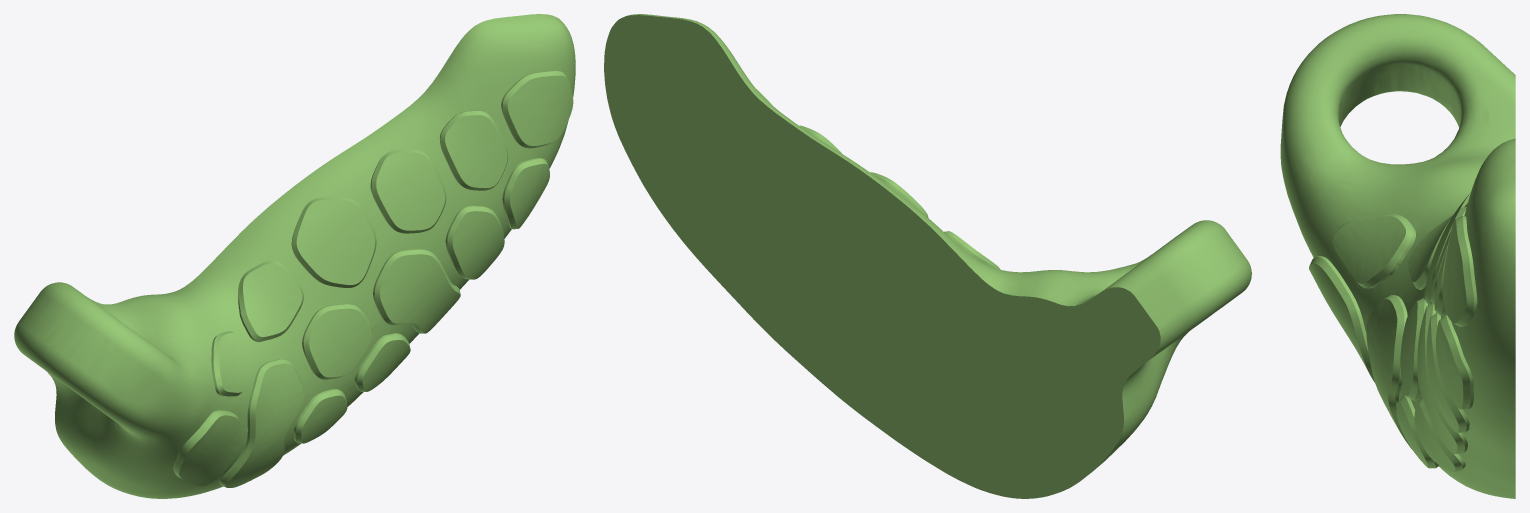
The picture shows the model from 3 angles, left to right: view 1: azimuth 30°, elevation 25°; view 2: azimuth 150°, elevation 25°; view 3: azimuth 270°, elevation 25°; orthographic projection. The views are drawn at different scales.
Visible parts, largest first — view 1: mesh3238; view 2: mesh3238; view 3: mesh3238.
Part boxes in pixels (x1,y1,x2,y2): mesh3238: [14, 14, 575, 498]; mesh3238: [604, 14, 1251, 498]; mesh3238: [1280, 14, 1515, 498].
Bounding box in the file's own units: 0.2102 × 0.1361 × 0.0549.
